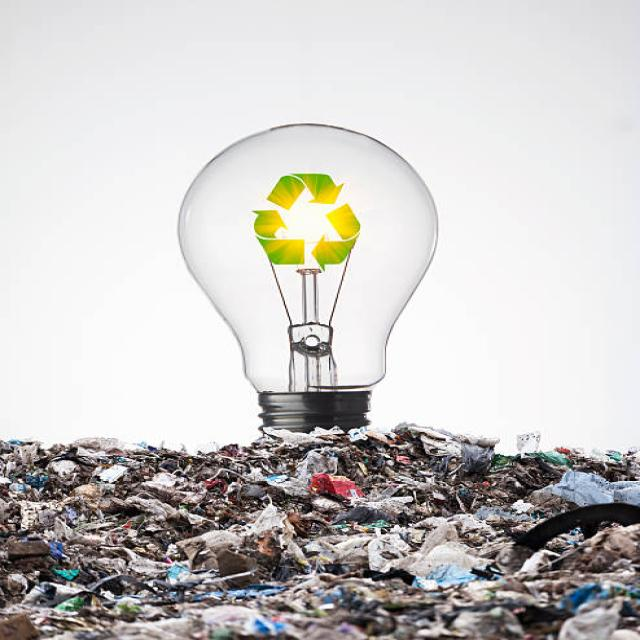trash: (12, 431, 626, 630)
